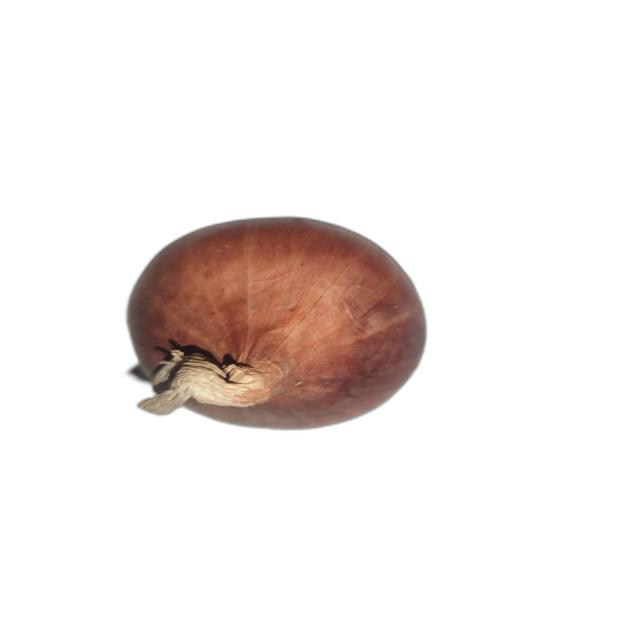onion: (125, 216, 428, 430)
